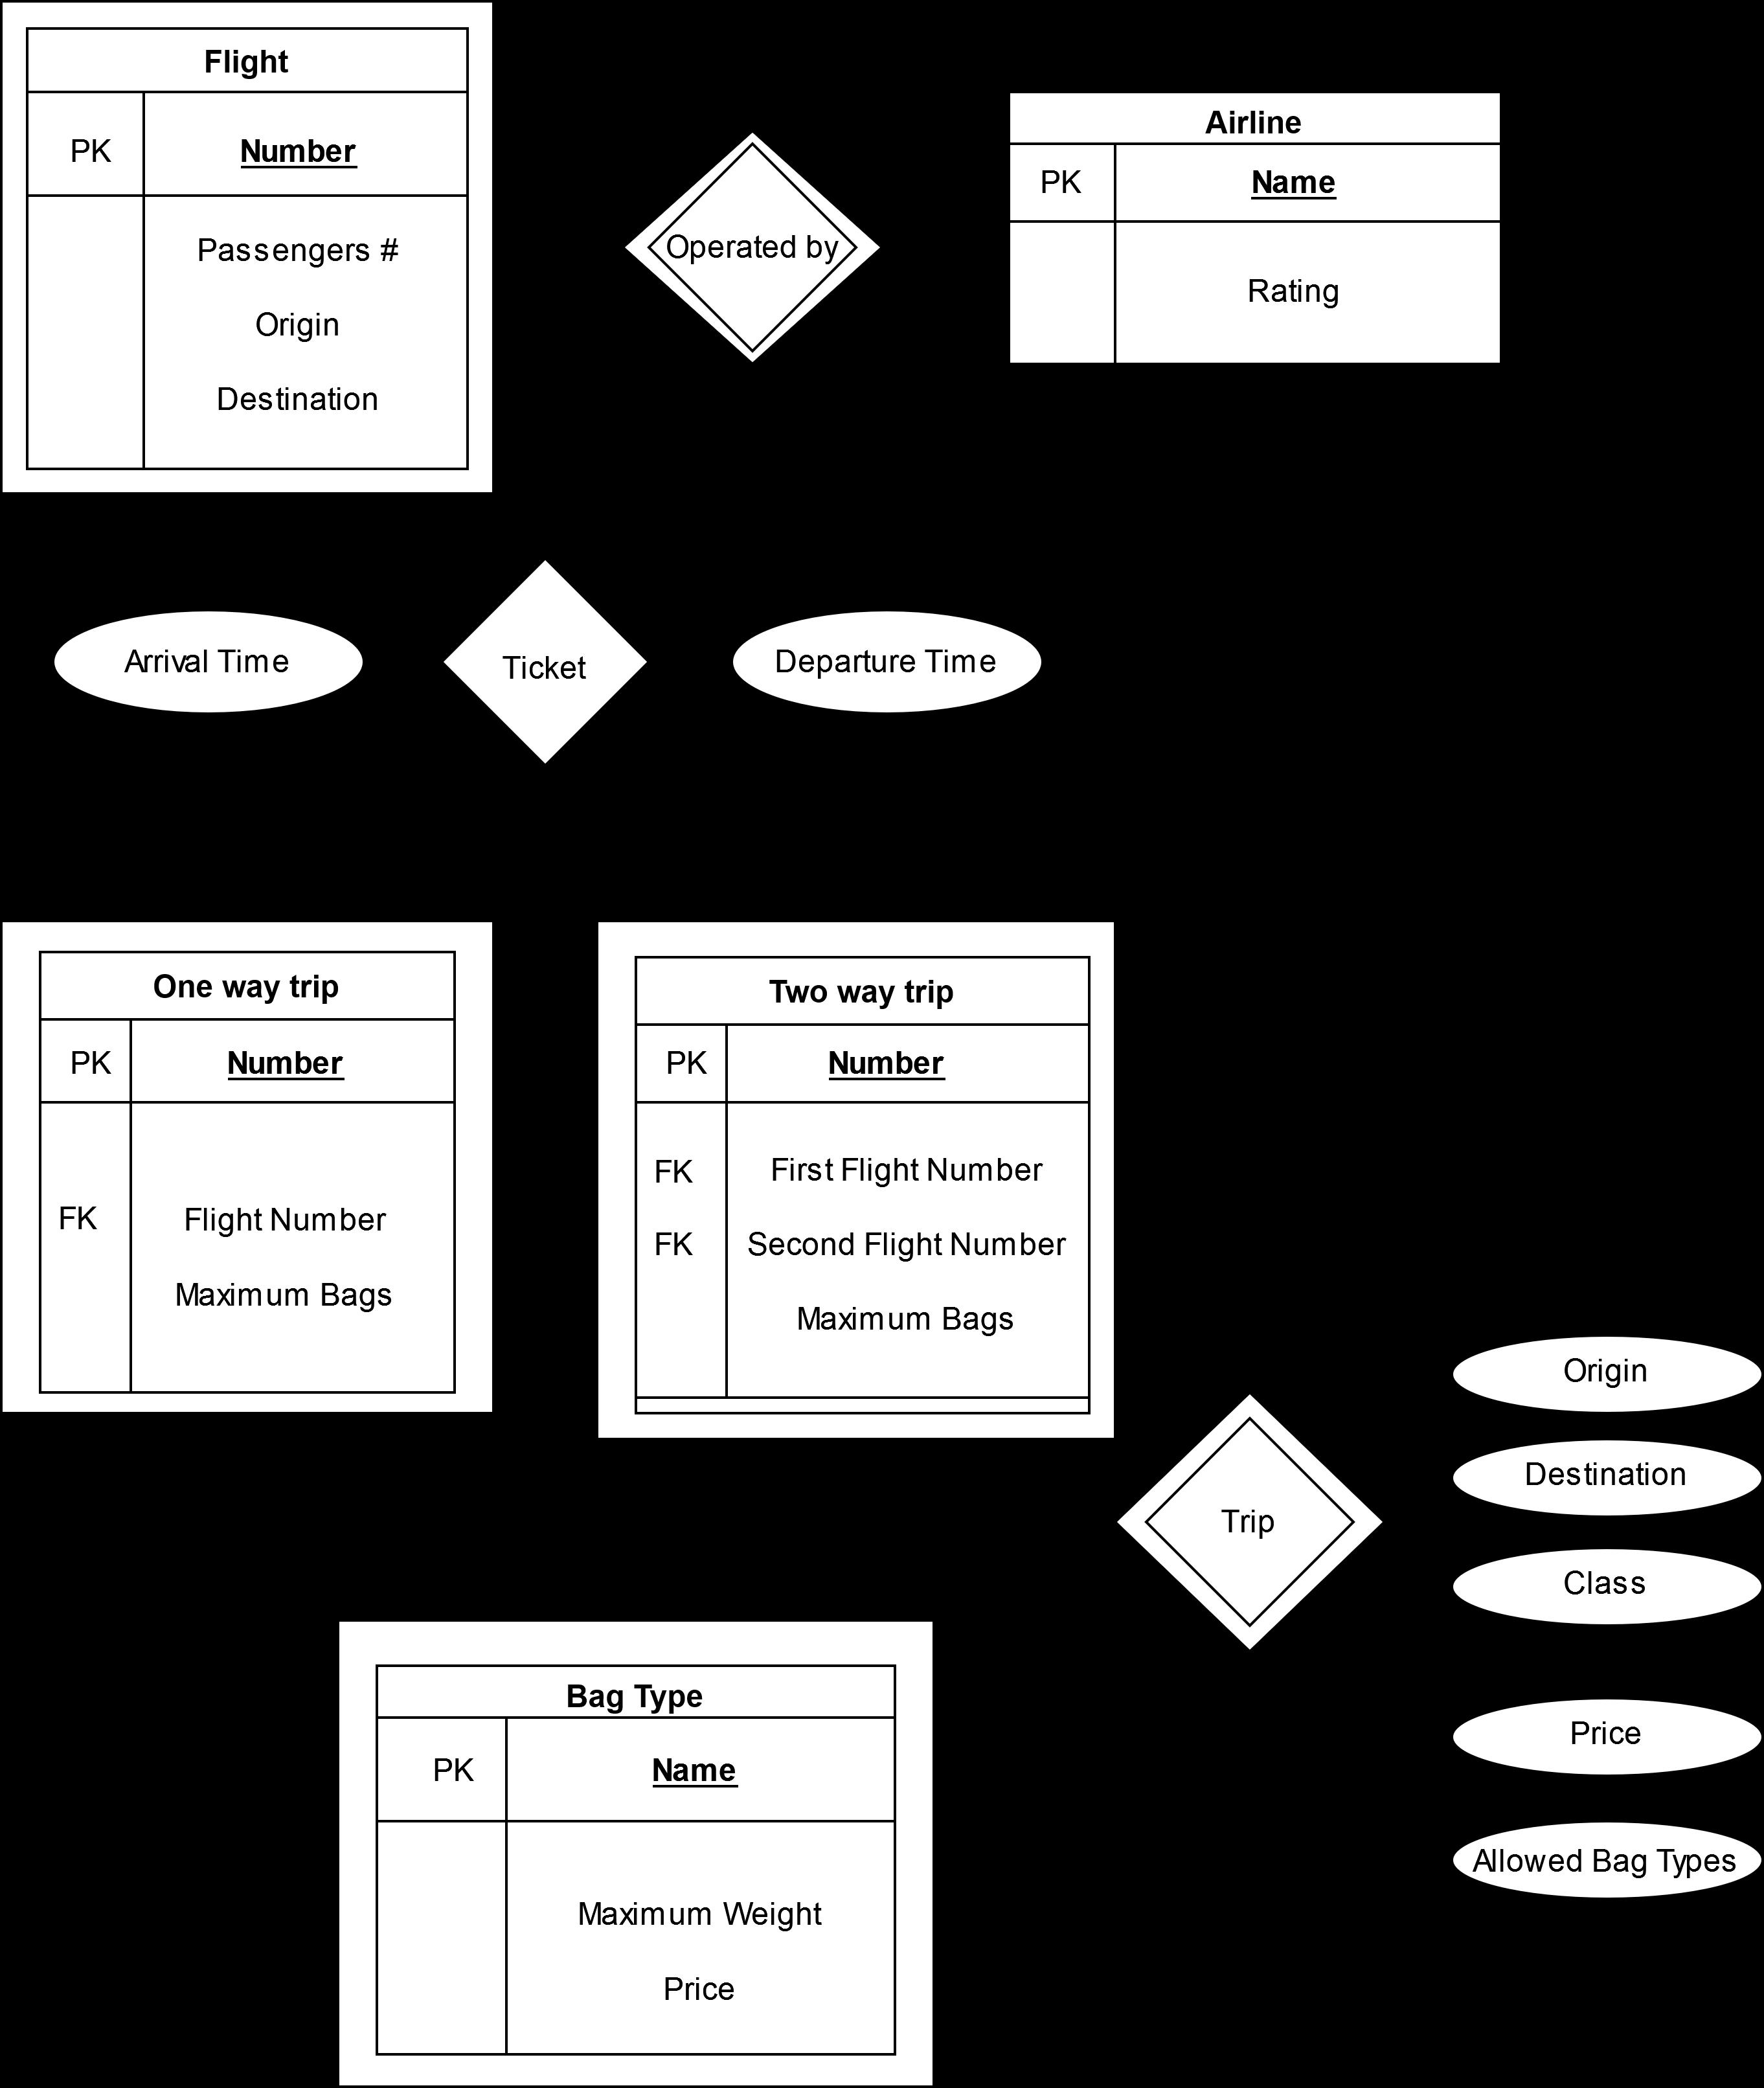attribute: (731, 586, 1076, 716), (47, 611, 354, 711), (1459, 1813, 1764, 1913), (1453, 1544, 1764, 1629), (1447, 1332, 1764, 1416), (1453, 1701, 1764, 1776), (1453, 1444, 1764, 1517)
entity: (1005, 86, 1516, 369)
relationship: (439, 564, 658, 768)
weakentity: (331, 1615, 947, 2088), (595, 914, 1124, 1442), (0, 907, 499, 1419), (0, 0, 501, 499)
weakrelationship: (1118, 1397, 1379, 1649), (626, 131, 878, 362)
